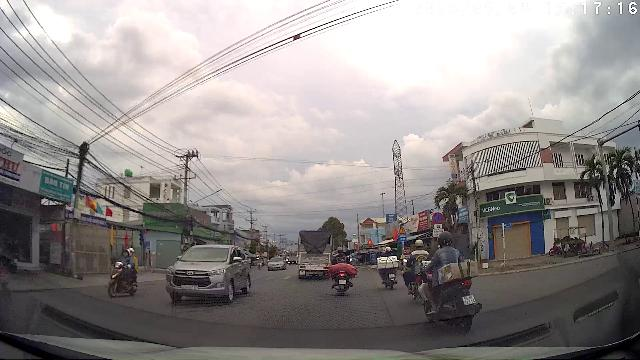130-cam-dung-va-do-xe: (432, 212, 443, 223)
